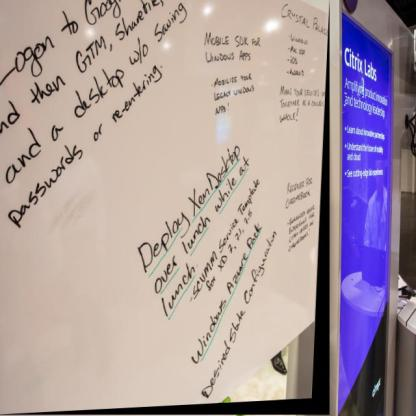Handwritten text: (0, 47, 175, 241), (0, 21, 157, 192), (117, 120, 254, 283), (143, 142, 263, 300), (189, 219, 283, 406), (171, 205, 271, 378), (1, 6, 93, 82), (147, 248, 210, 326), (200, 28, 271, 52), (207, 79, 260, 103), (209, 65, 257, 90), (199, 49, 258, 63)
Whiteboard: (0, 0, 328, 416)
